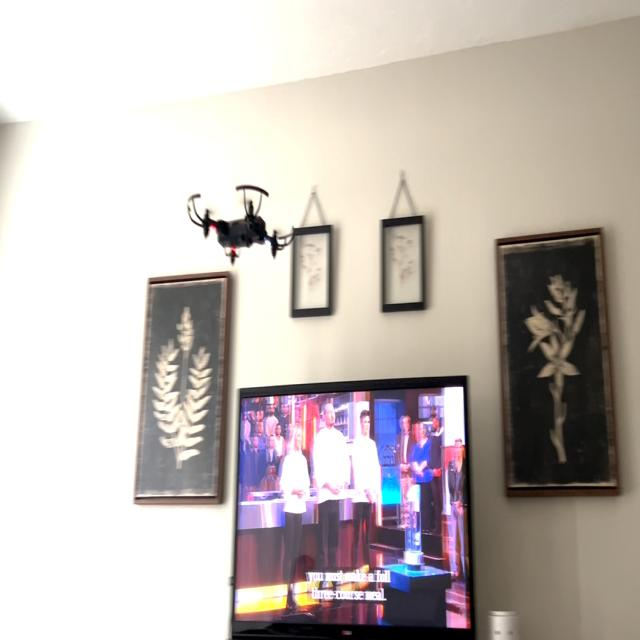drone: (176, 168, 301, 272)
